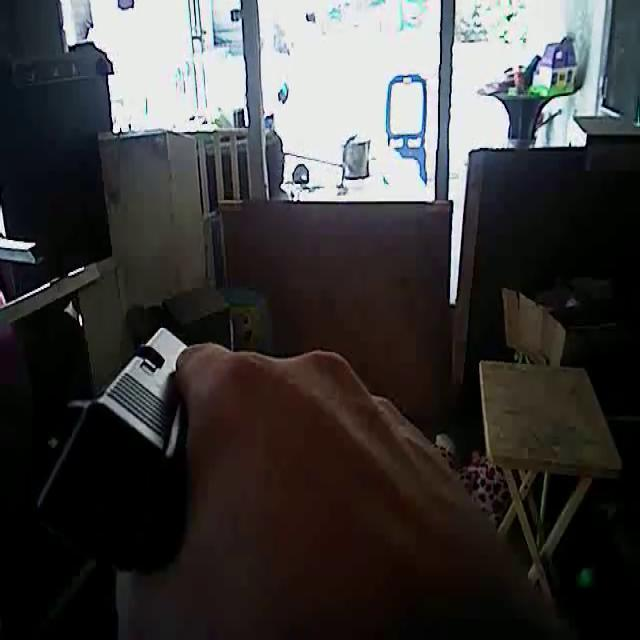gun: (11, 286, 235, 595)
